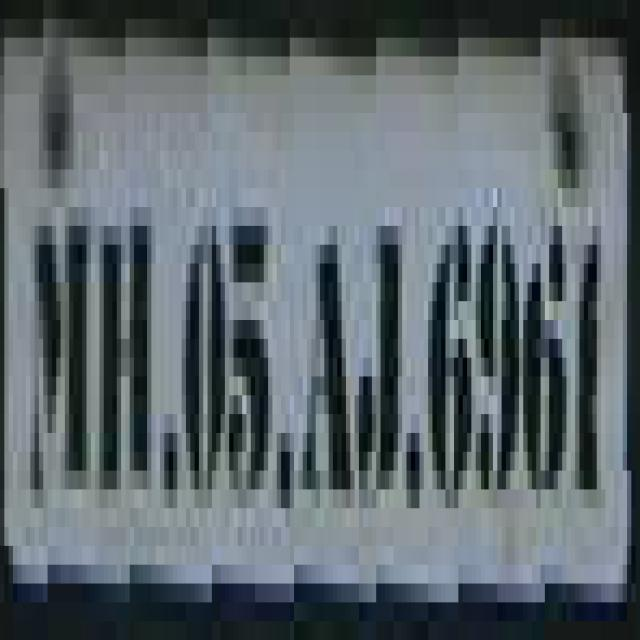license_plate: (4, 19, 606, 621)
